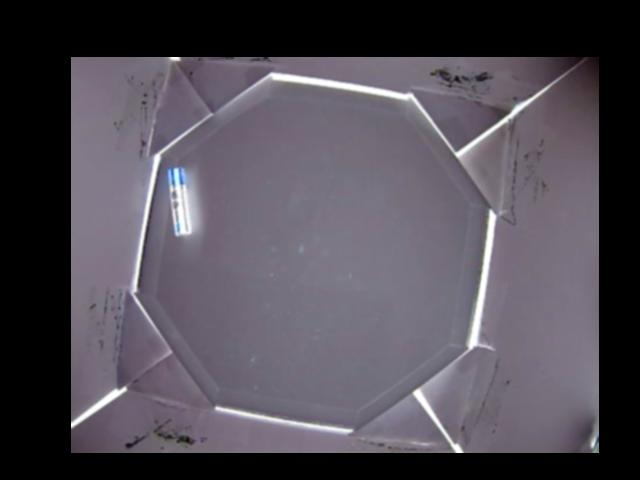Battery: (165, 167, 193, 237)
